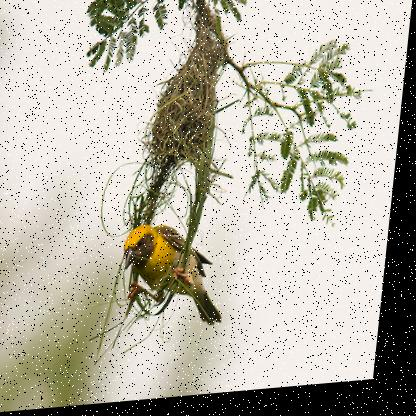Burung: (123, 221, 238, 337)
